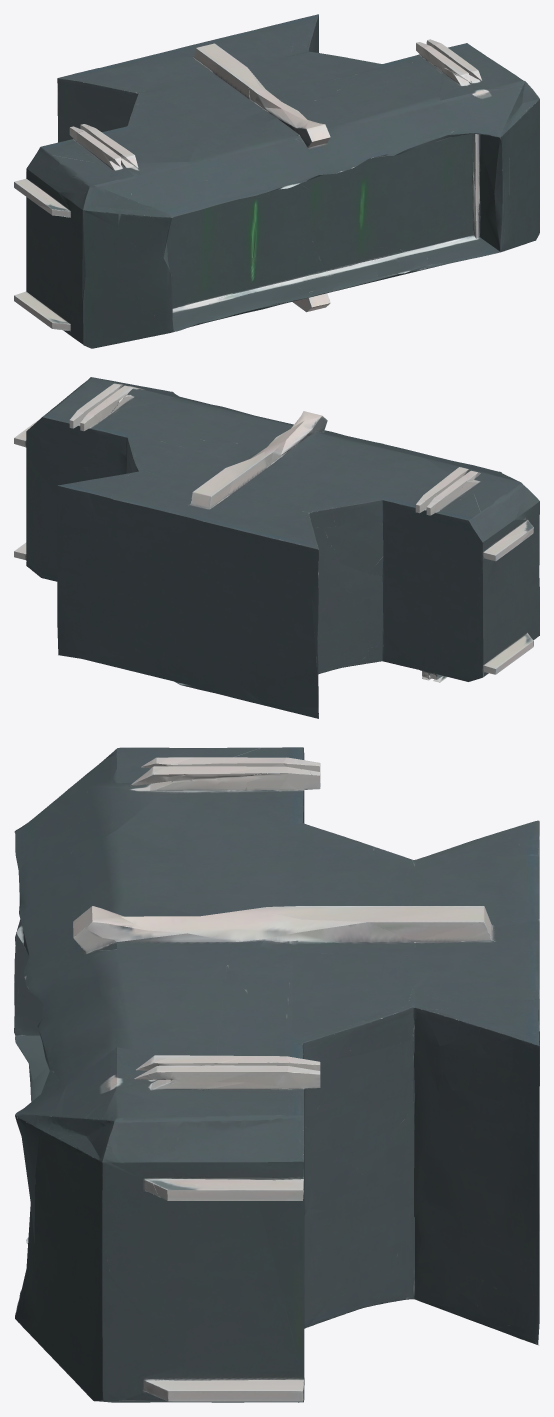
File: shuttle.glb
The picture shows the model from 3 angles, top to bottom: view 1: azimuth 30°, elevation 25°; view 2: azimuth 150°, elevation 25°; view 3: azimuth 270°, elevation 25°; orthographic projection. The views are drawn at different scales.
Visible parts, largest first — view 1: Mesh_0; view 2: Mesh_0; view 3: Mesh_0.
Part boxes in pixels (<box>): Mesh_0: <box>14,14,539,348</box>; Mesh_0: <box>14,377,539,718</box>; Mesh_0: <box>14,747,539,1402</box>.
Size of the model in its own units: 1.9 by 0.692 by 1.02.
1 material, 1 textured.
